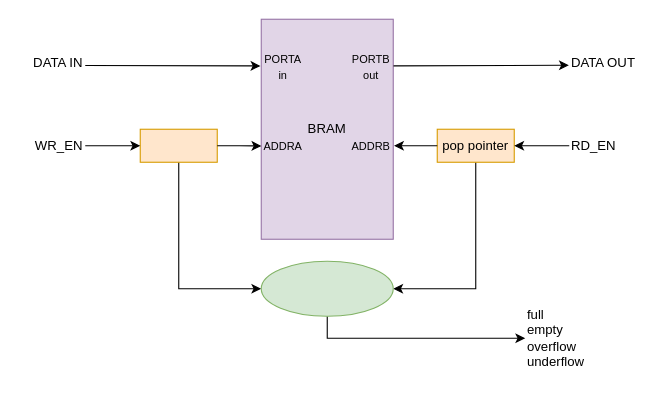
Image size: 664x402. Some labels were removed from this diagram. The shapes that lost their labels are listed below. From the top down, each one's centre as x and y in pixels, then its label:
the point at 178,145: push pointer
the point at 326,288: flags
